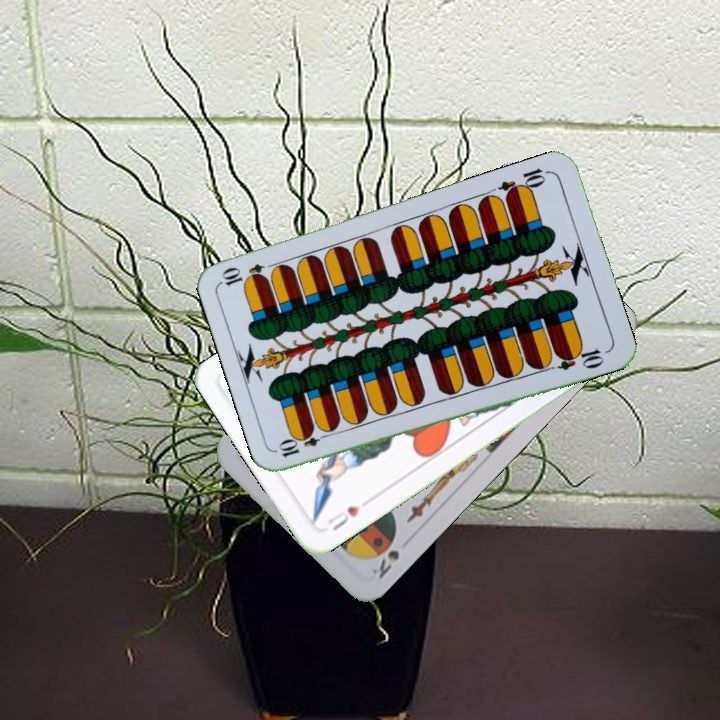E10: (495, 164, 552, 202), (275, 427, 333, 460)
HU: (323, 501, 363, 534)
SK: (367, 546, 402, 582)
